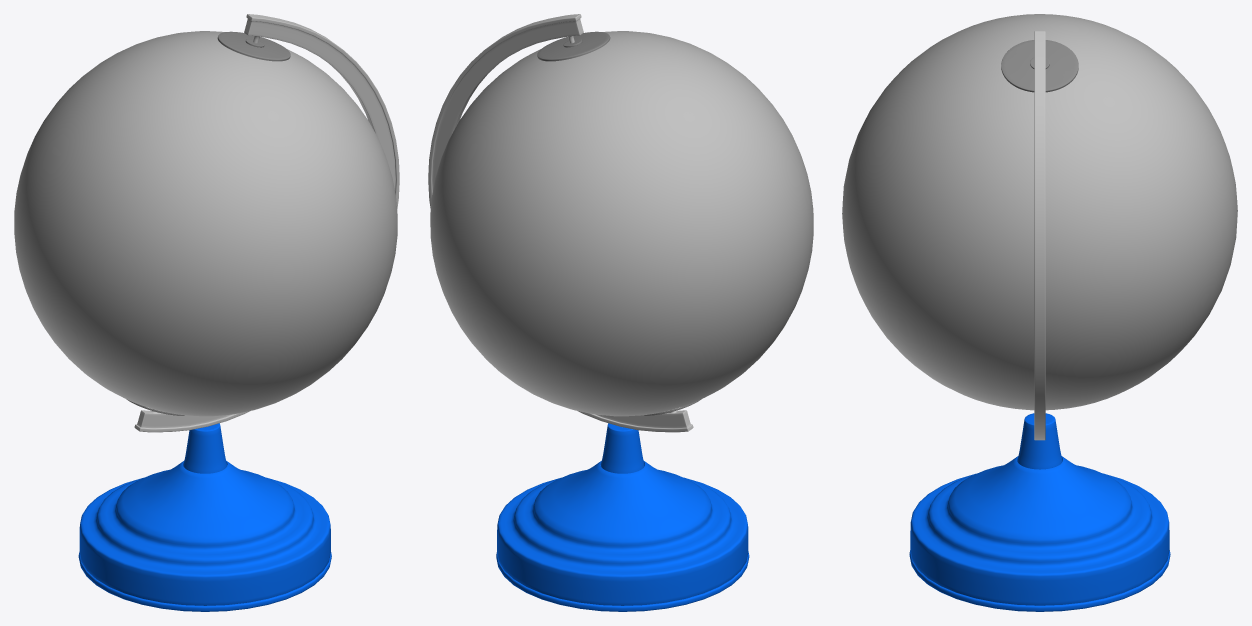
3 views of the same model, side by side, from view 1: azimuth 30°, elevation 25°; view 2: azimuth 150°, elevation 25°; view 3: azimuth 270°, elevation 25° (orthographic). The views are drawn at different scales.
Parts seen in each view (by area): view 1: Object01, Globe02; view 2: Object01, Globe02; view 3: Object01, Globe02.
Part boxes in pixels (bbox=[...]): Object01: bbox=[14, 31, 397, 416]; Globe02: bbox=[78, 14, 399, 611]; Object01: bbox=[430, 31, 813, 416]; Globe02: bbox=[428, 14, 749, 611]; Object01: bbox=[842, 14, 1237, 410]; Globe02: bbox=[909, 31, 1170, 611].
Bounding box in the file's own units: 17.79 × 26.38 × 16.53.
